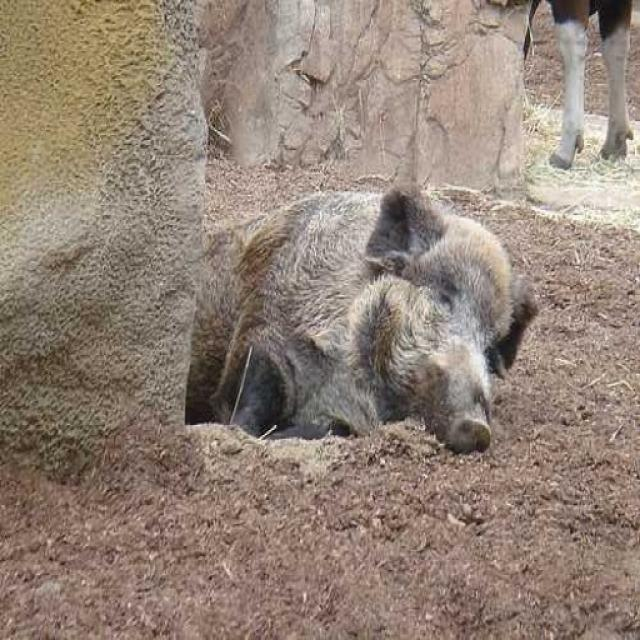pig: (172, 129, 538, 508)
